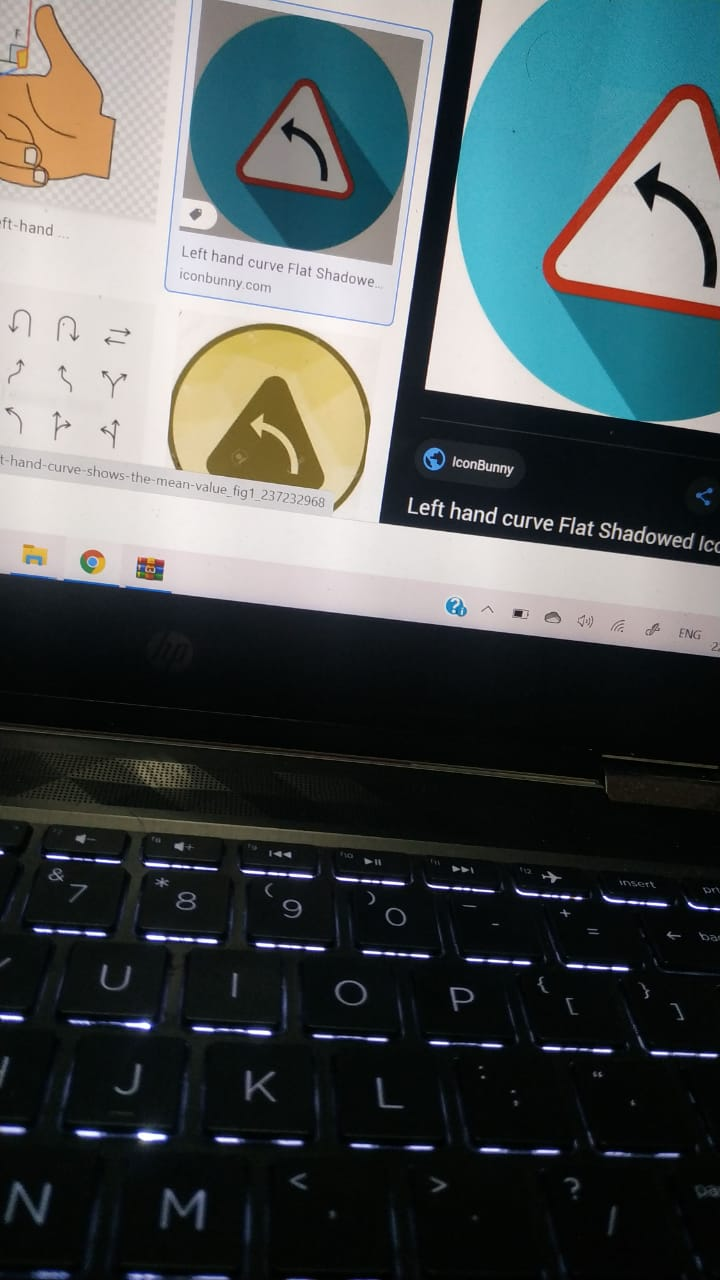LEFT CURVE: (176, 1, 421, 295), (513, 62, 720, 314), (162, 311, 348, 533)
